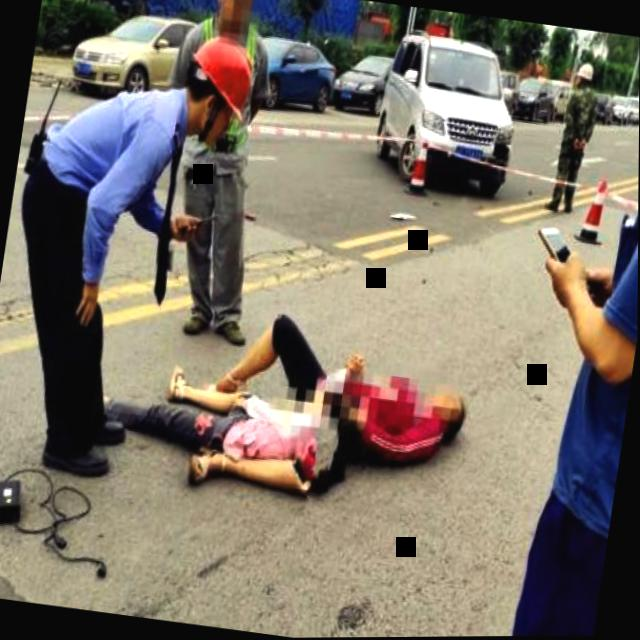Fall-Detected: (89, 343, 357, 518)
